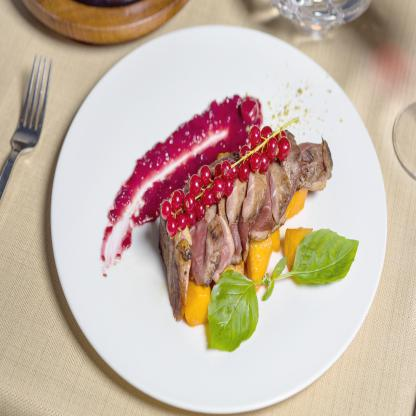Carne: (274, 138, 330, 215), (160, 232, 194, 318)
